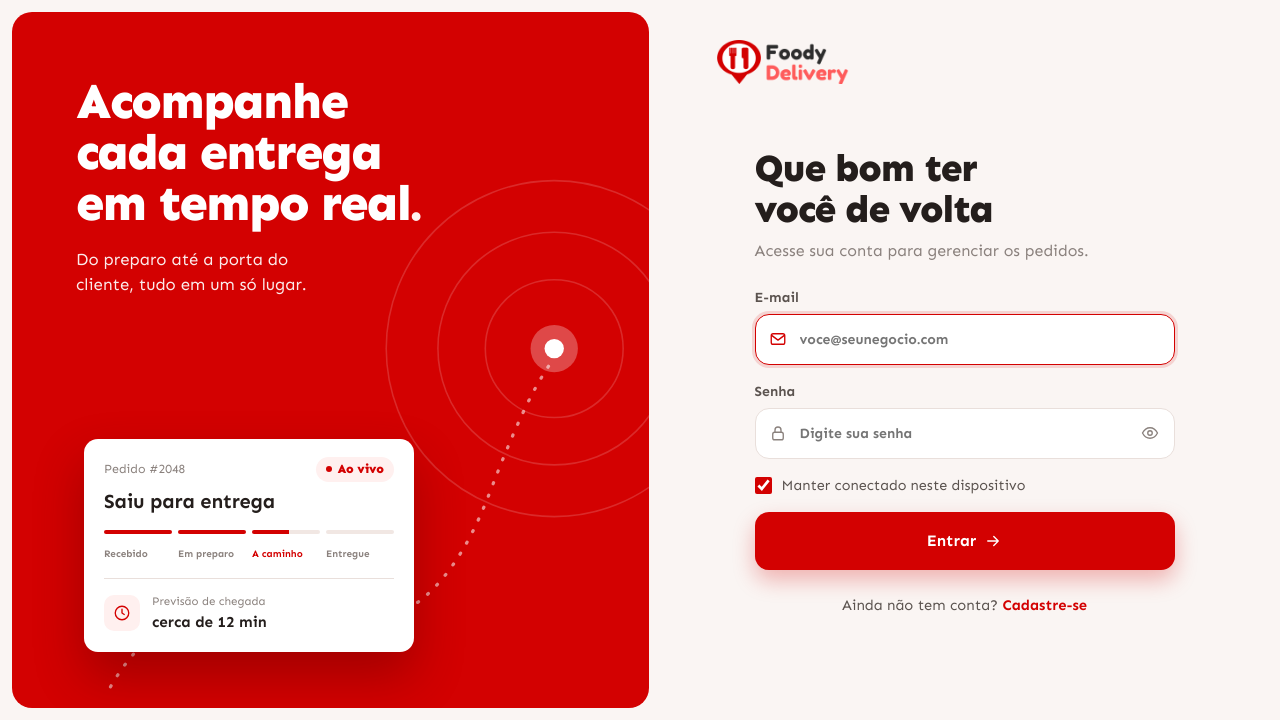
Test: LoginPage › explains when the server cannot be reached
This screenshot has width=1280, height=720.
Type "ana@test.com" into the field labelled "E-mail" at [965, 339], box [755, 314, 1175, 365]
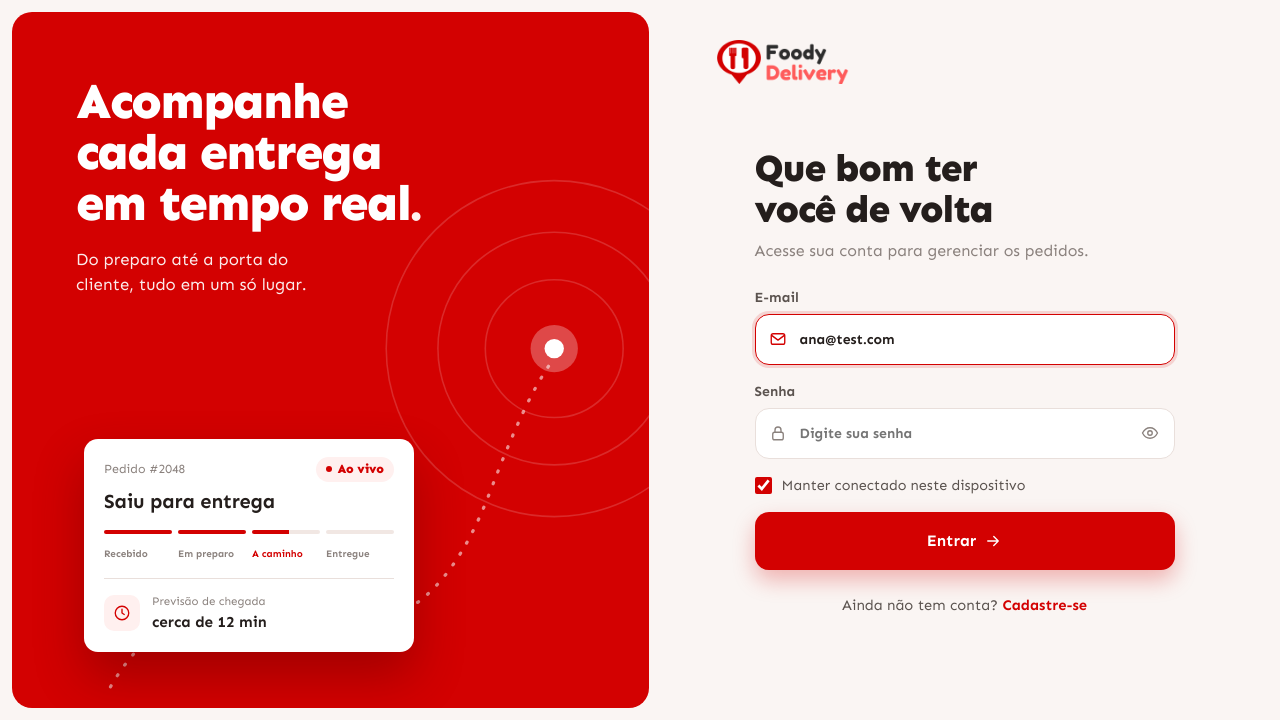
Type "secret123" into the password field labelled "Senha" at [965, 433], box [755, 408, 1175, 459]
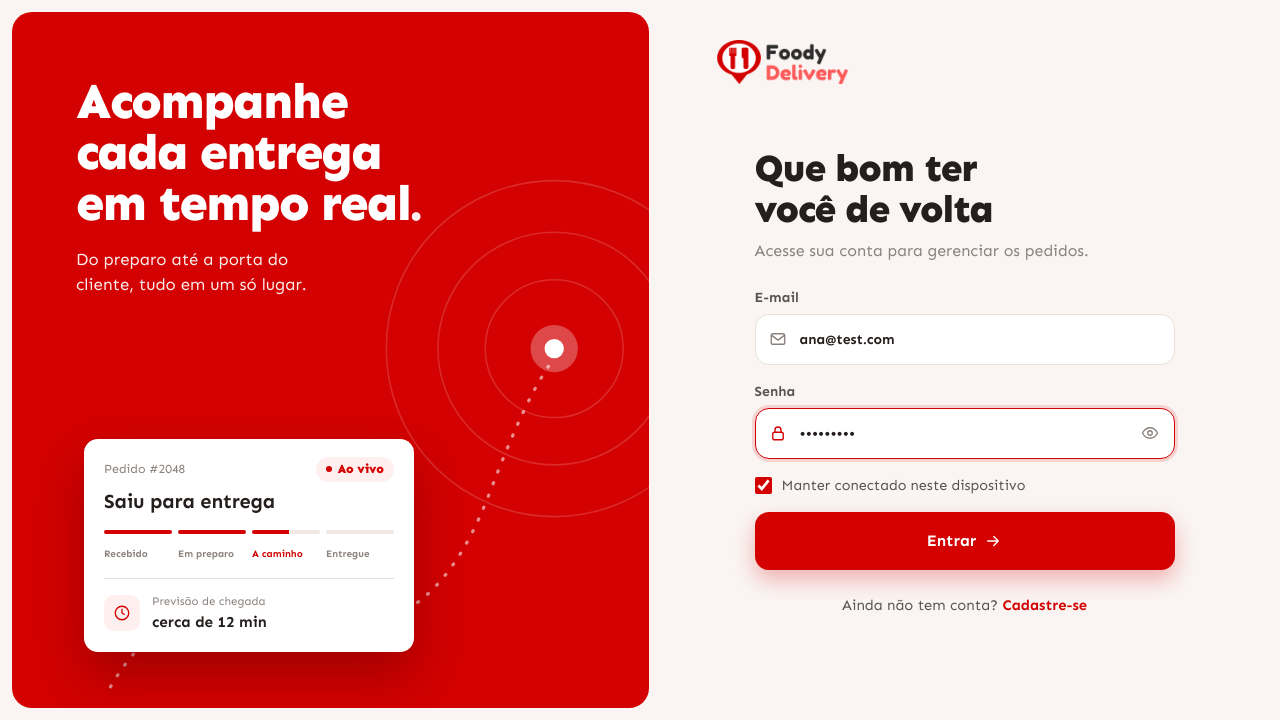
Click the button "Entrar" at [965, 541], box [755, 512, 1175, 570]
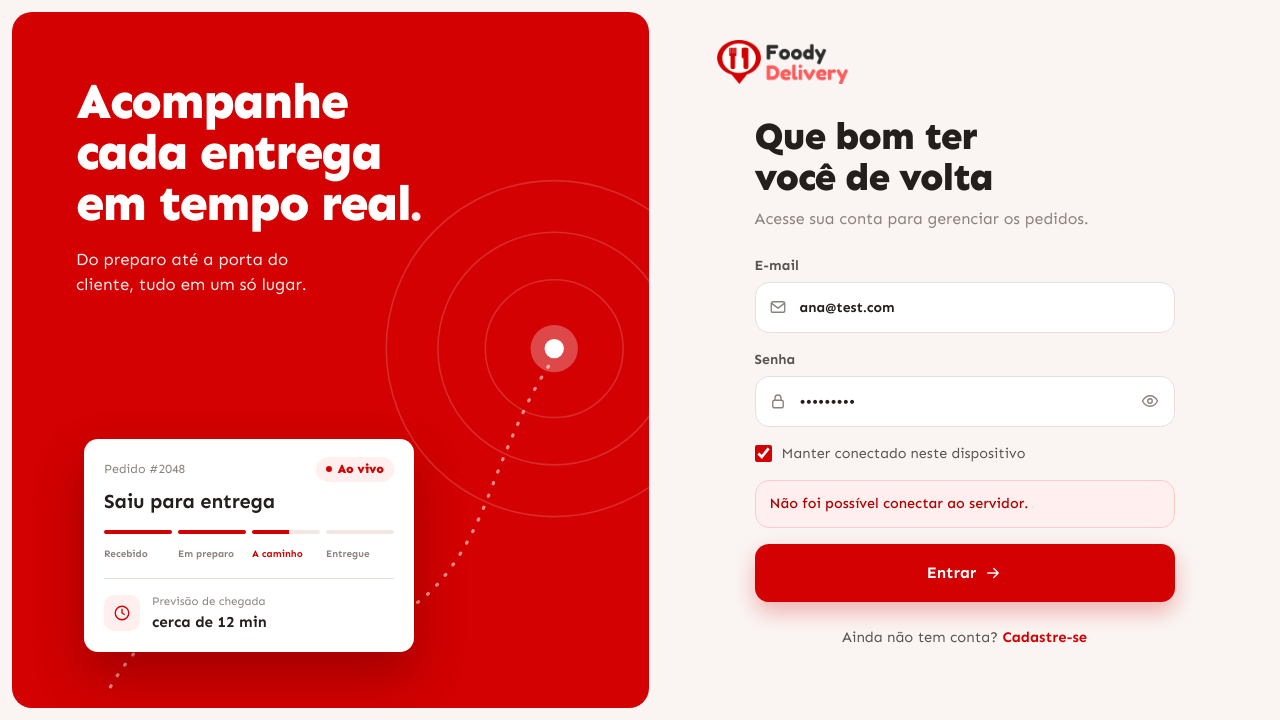
Expected: the message reads "Não foi possível conectar ao servidor.", [770, 494, 1028, 512]
